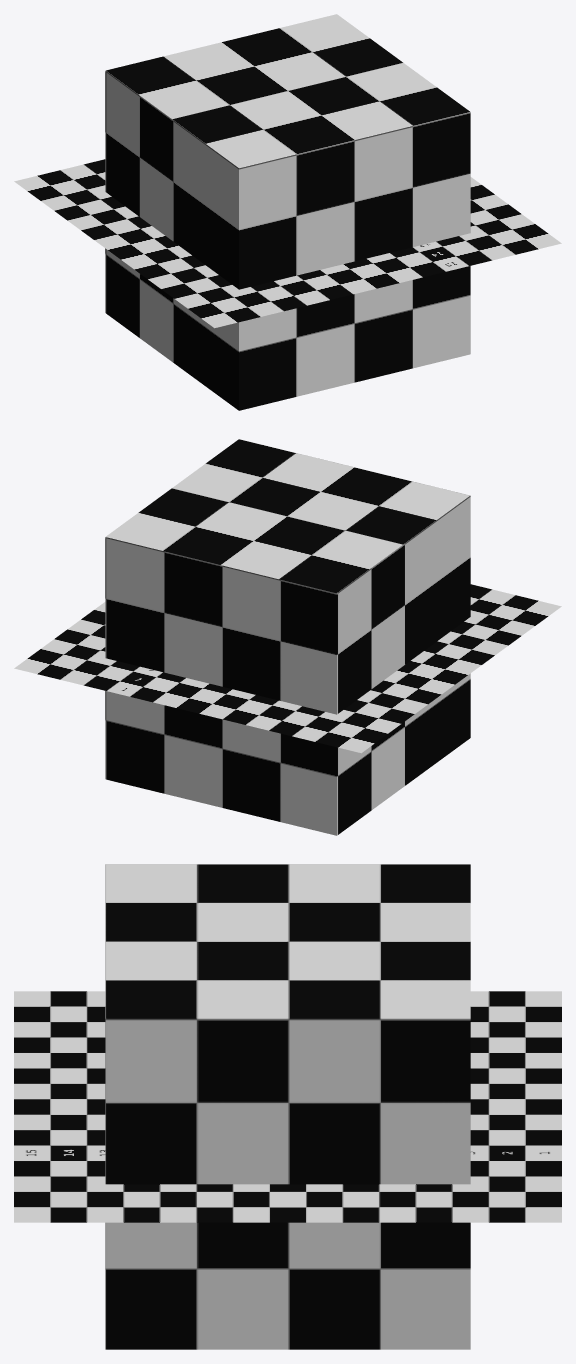
Rendered from gabarito_cubo.fbx.
The picture shows the model from 3 angles, top to bottom: view 1: azimuth 30°, elevation 25°; view 2: azimuth 150°, elevation 25°; view 3: azimuth 270°, elevation 25°; orthographic projection. The views are drawn at different scales.
Parts seen in each view (by area): view 1: Cube, Plane; view 2: Cube, Plane; view 3: Cube, Plane.
Boxes of the visible parts, x1,y1,x2,y2 form: Cube: (105,14,470,410); Plane: (14,159,561,328); Cube: (105,439,470,835); Plane: (14,584,561,753); Cube: (105,864,470,1349); Plane: (14,991,561,1222).
Size of the model in its own units: 300 by 200 by 300.
Materials: 1 (1 with a texture image).
